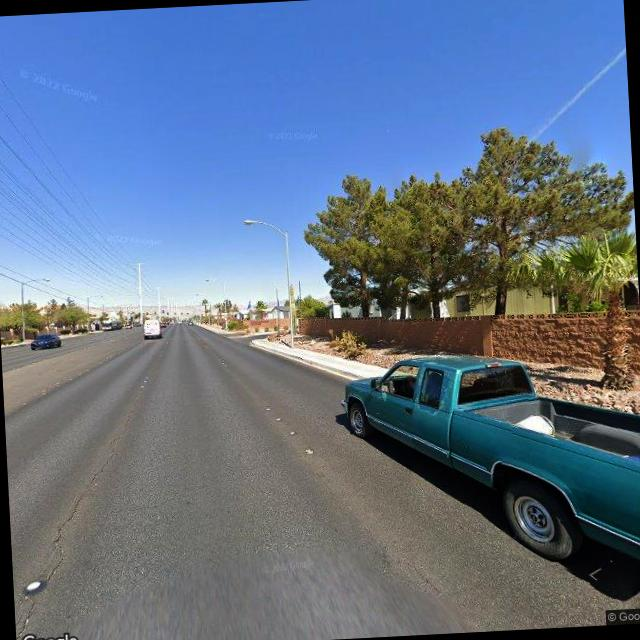pothole: (6, 448, 126, 632), (406, 559, 444, 597)
